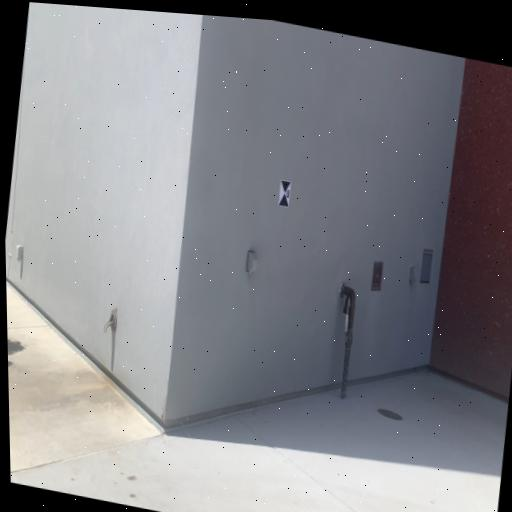target8: (278, 179, 293, 208)
